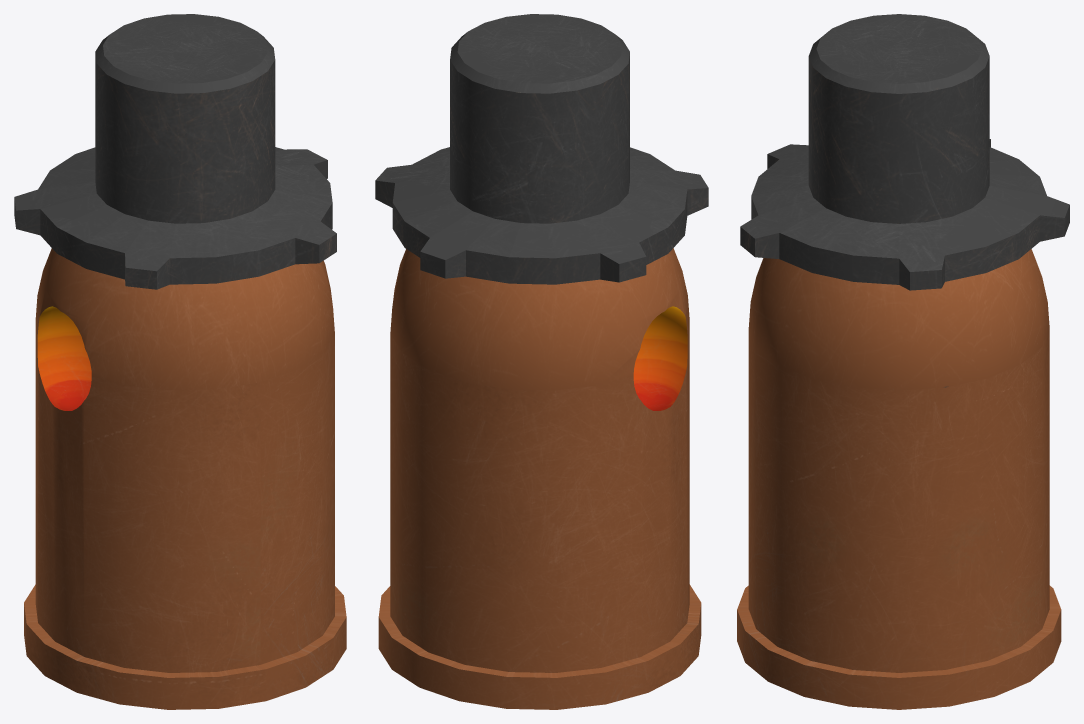
The model's file is spöke_ 4_M.fbx.
3 renders of one model, left to right at view 1: azimuth 30°, elevation 25°; view 2: azimuth 150°, elevation 25°; view 3: azimuth 270°, elevation 25°, orthographic.
Visible parts, largest first — view 1: pSphere3, pCylinder1; view 2: pSphere3, pCylinder1; view 3: pSphere3, pCylinder1.
Part boxes in pixels (<box>): pSphere3: <box>24,248,346,709</box>; pCylinder1: <box>14,14,336,289</box>; pSphere3: <box>378,248,701,709</box>; pCylinder1: <box>375,14,708,284</box>; pSphere3: <box>737,249,1061,709</box>; pCylinder1: <box>740,14,1069,290</box>.
Bounding box in the file's own units: 2.21 × 4.35 × 2.21.
